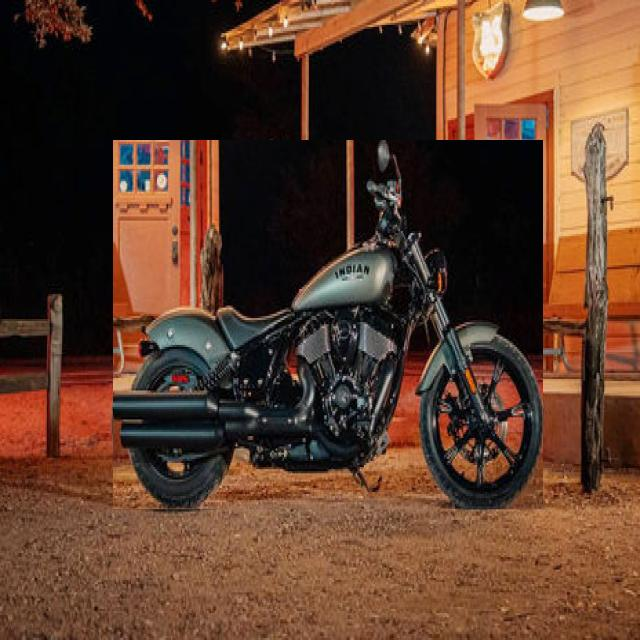motorcycle: (113, 140, 542, 509)
